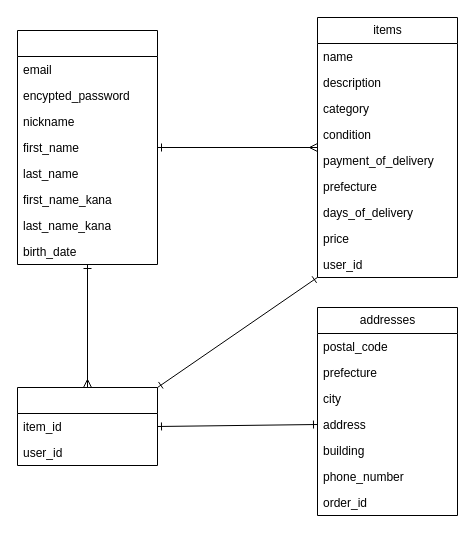
The diagram is 475 pixels wide and 536 high, and some of its shapes have lost their labels. The shapes that lost their labels are listed below. From the top down, each one's box as (x1, y1, x2, y2) in pixels, then its label:
(16, 30, 158, 264): users
(16, 386, 158, 466): orders
